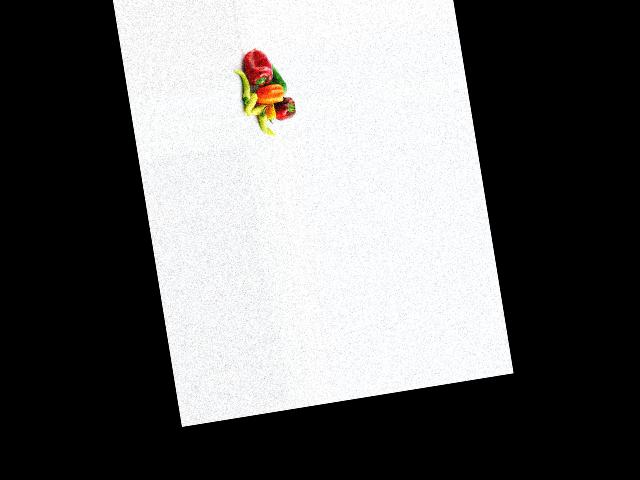bell_pepper: (234, 65, 252, 107)
